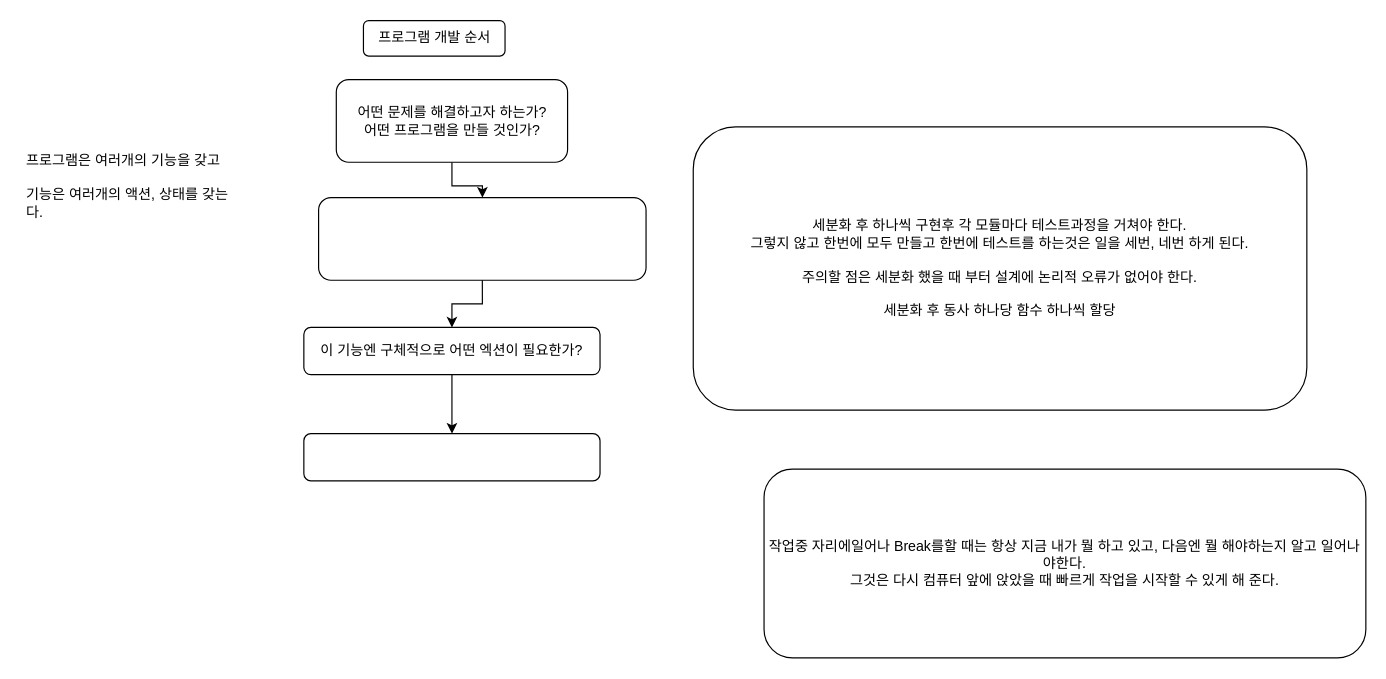
The diagram is 1386 pixels wide and 679 high, and some of its shapes have lost their labels. Each missing label, with the box of its shape:
기능별 분류(문제를 잘게 쪼개고 세분화한다) @@@@@@ 이 프로그램에는 어떤 기능들이 필요한가: (317, 196, 646, 280)
이 액션엔 어떤 조건들이 있는가?: (303, 432, 600, 481)
